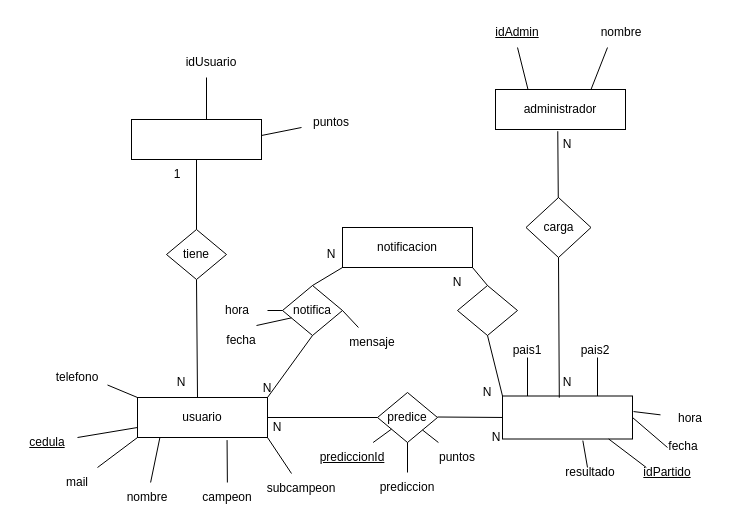
The diagram is 737 pixels wide and 529 high, and some of its shapes have lost their labels. Each missing label, with the box of its shape:
partido: (502, 395, 632, 439)
ranking: (130, 118, 262, 160)
utiliza: (456, 284, 518, 336)
